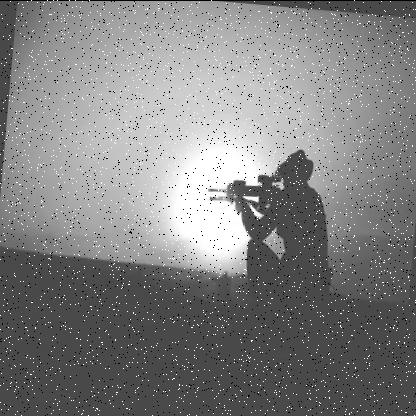rifle: (203, 163, 289, 222)
